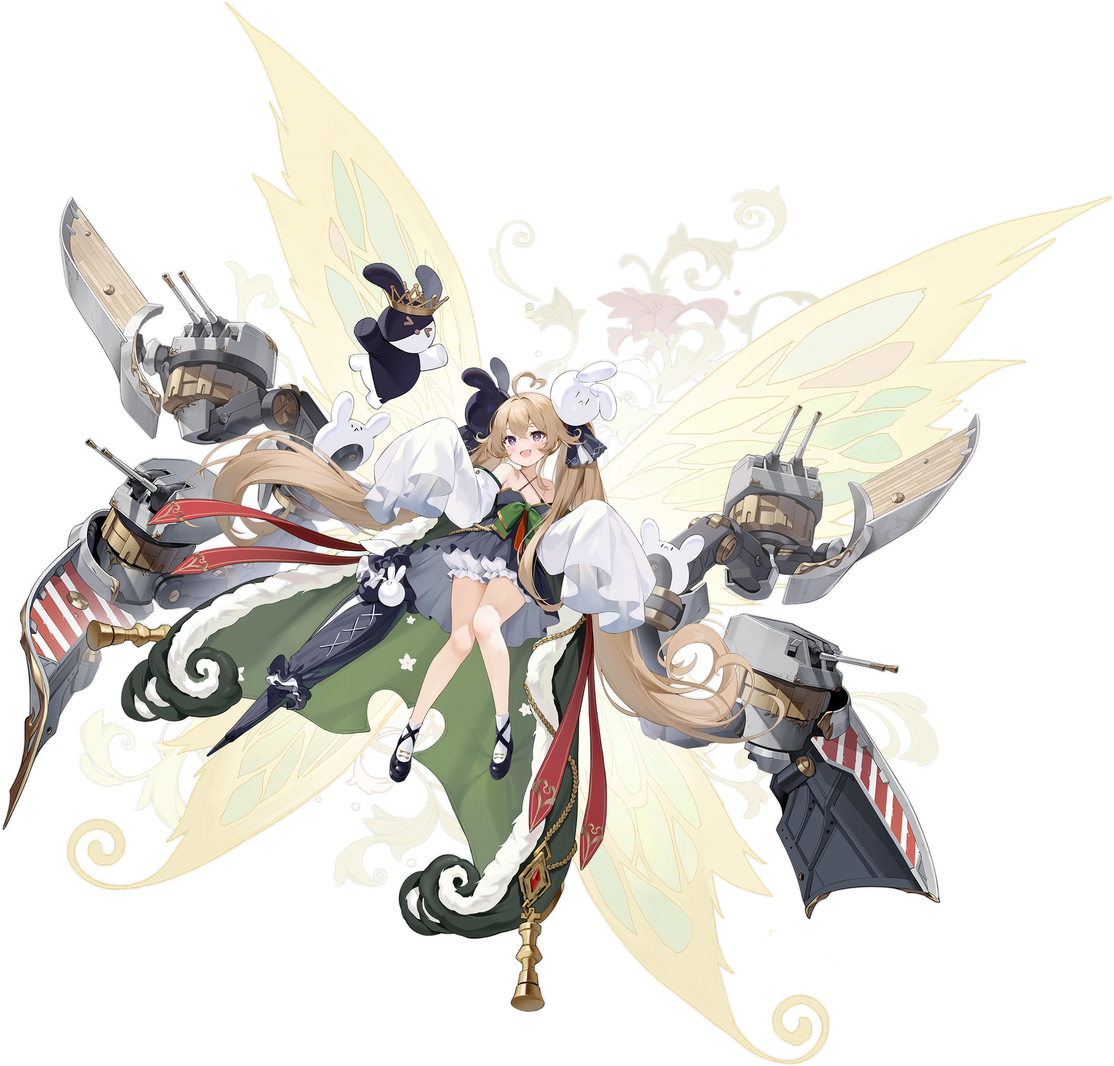person: (335, 355, 658, 805)
